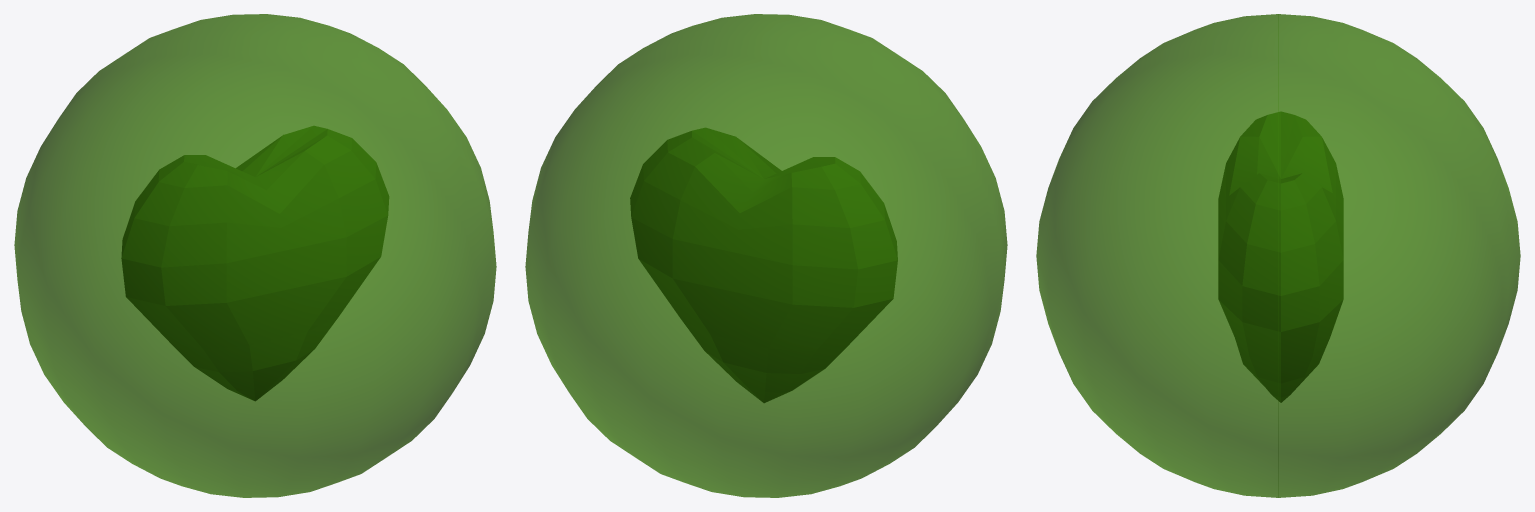
File: LifeOrboExpo6.fbx
3 renders of one model, left to right at view 1: azimuth 30°, elevation 25°; view 2: azimuth 150°, elevation 25°; view 3: azimuth 270°, elevation 25°, orthographic.
Parts seen in each view (by area): view 1: pSphere1, pSphere2; view 2: pSphere1, pSphere2; view 3: pSphere1, pSphere2.
Part boxes in pixels (x1,y1,x2,y2): pSphere1: [14, 14, 496, 497]; pSphere2: [121, 126, 389, 401]; pSphere1: [525, 14, 1007, 497]; pSphere2: [630, 127, 897, 402]; pSphere1: [1036, 14, 1520, 497]; pSphere2: [1218, 111, 1343, 402].
Size of the model in its own units: 2.86 by 2.86 by 2.86.
